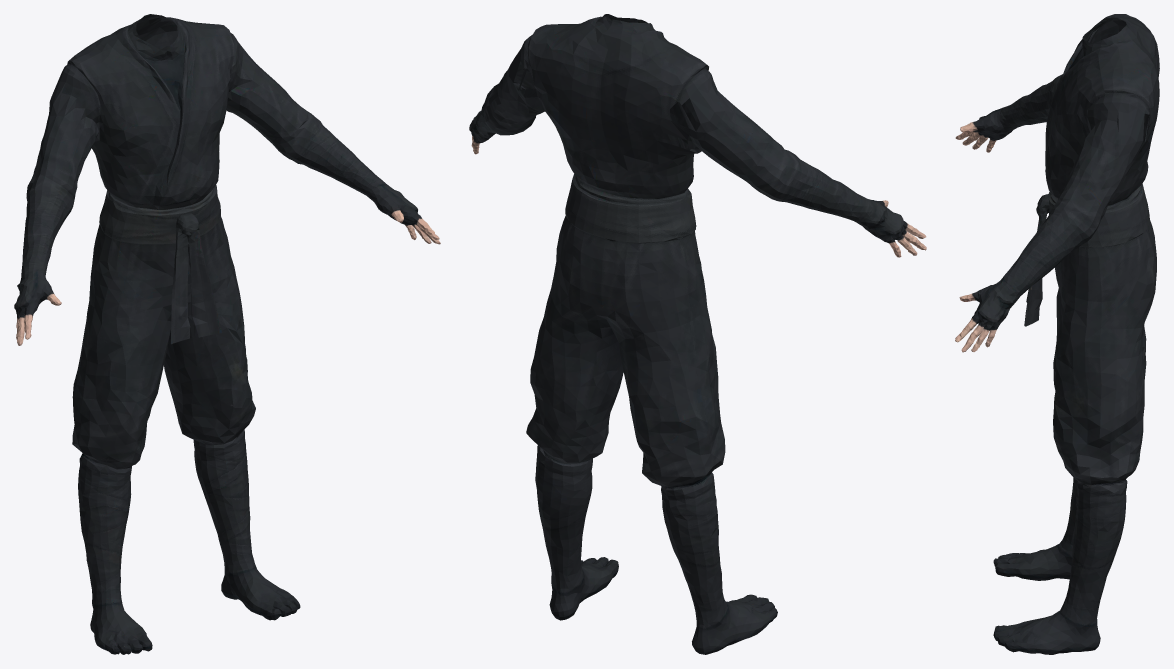
File: ewm_t2ninja_outfit.glb
3 views of the same model, side by side, from view 1: azimuth 30°, elevation 25°; view 2: azimuth 150°, elevation 25°; view 3: azimuth 270°, elevation 25° (orthographic). The views are drawn at different scales.
Parts seen in each view (by area): view 1: ewm_t2ninja_outfit; view 2: ewm_t2ninja_outfit; view 3: ewm_t2ninja_outfit.
Boxes of the visible parts, <box> form: ewm_t2ninja_outfit: <box>14,14,440,654</box>; ewm_t2ninja_outfit: <box>469,14,926,654</box>; ewm_t2ninja_outfit: <box>955,14,1159,654</box>.
Bounding box in the file's own units: 1.25 × 1.66 × 0.5192.
1 material, 1 textured.
